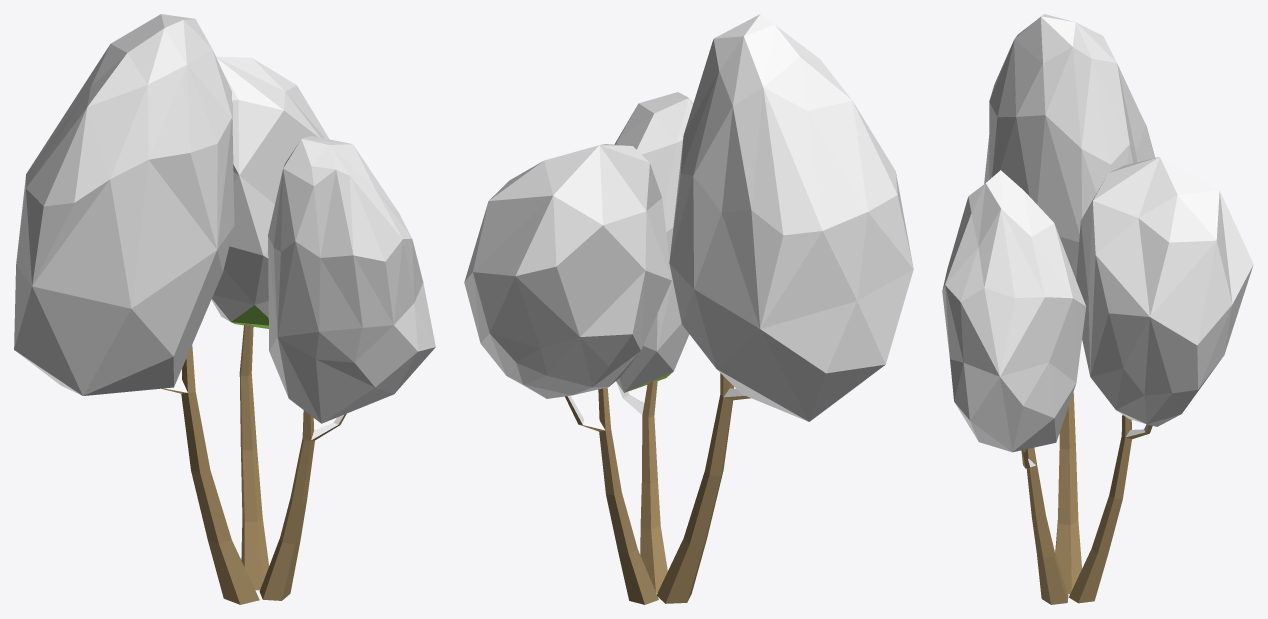
The model's file is Random_Tree_m_Snow_02_LOD.fbx.
3 renders of one model, left to right at view 1: azimuth 30°, elevation 25°; view 2: azimuth 150°, elevation 25°; view 3: azimuth 270°, elevation 25°, orthographic. The views are drawn at different scales.
Parts seen in each view (by area): view 1: Random_Tree_m_Snow_02_LOD0; view 2: Random_Tree_m_Snow_02_LOD0; view 3: Random_Tree_m_Snow_02_LOD0.
Part boxes in pixels (left/top/right/bottom): Random_Tree_m_Snow_02_LOD0: left=14, top=14, right=435, bottom=604; Random_Tree_m_Snow_02_LOD0: left=464, top=14, right=913, bottom=604; Random_Tree_m_Snow_02_LOD0: left=942, top=14, right=1253, bottom=604.
Size of what is drawn, in the model's own units: 640 by 998 by 522.
